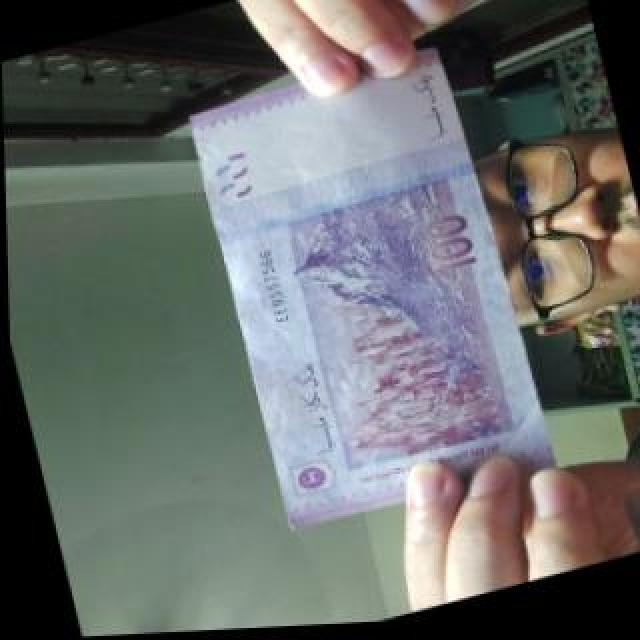100 Ringgit: (184, 29, 556, 548)
